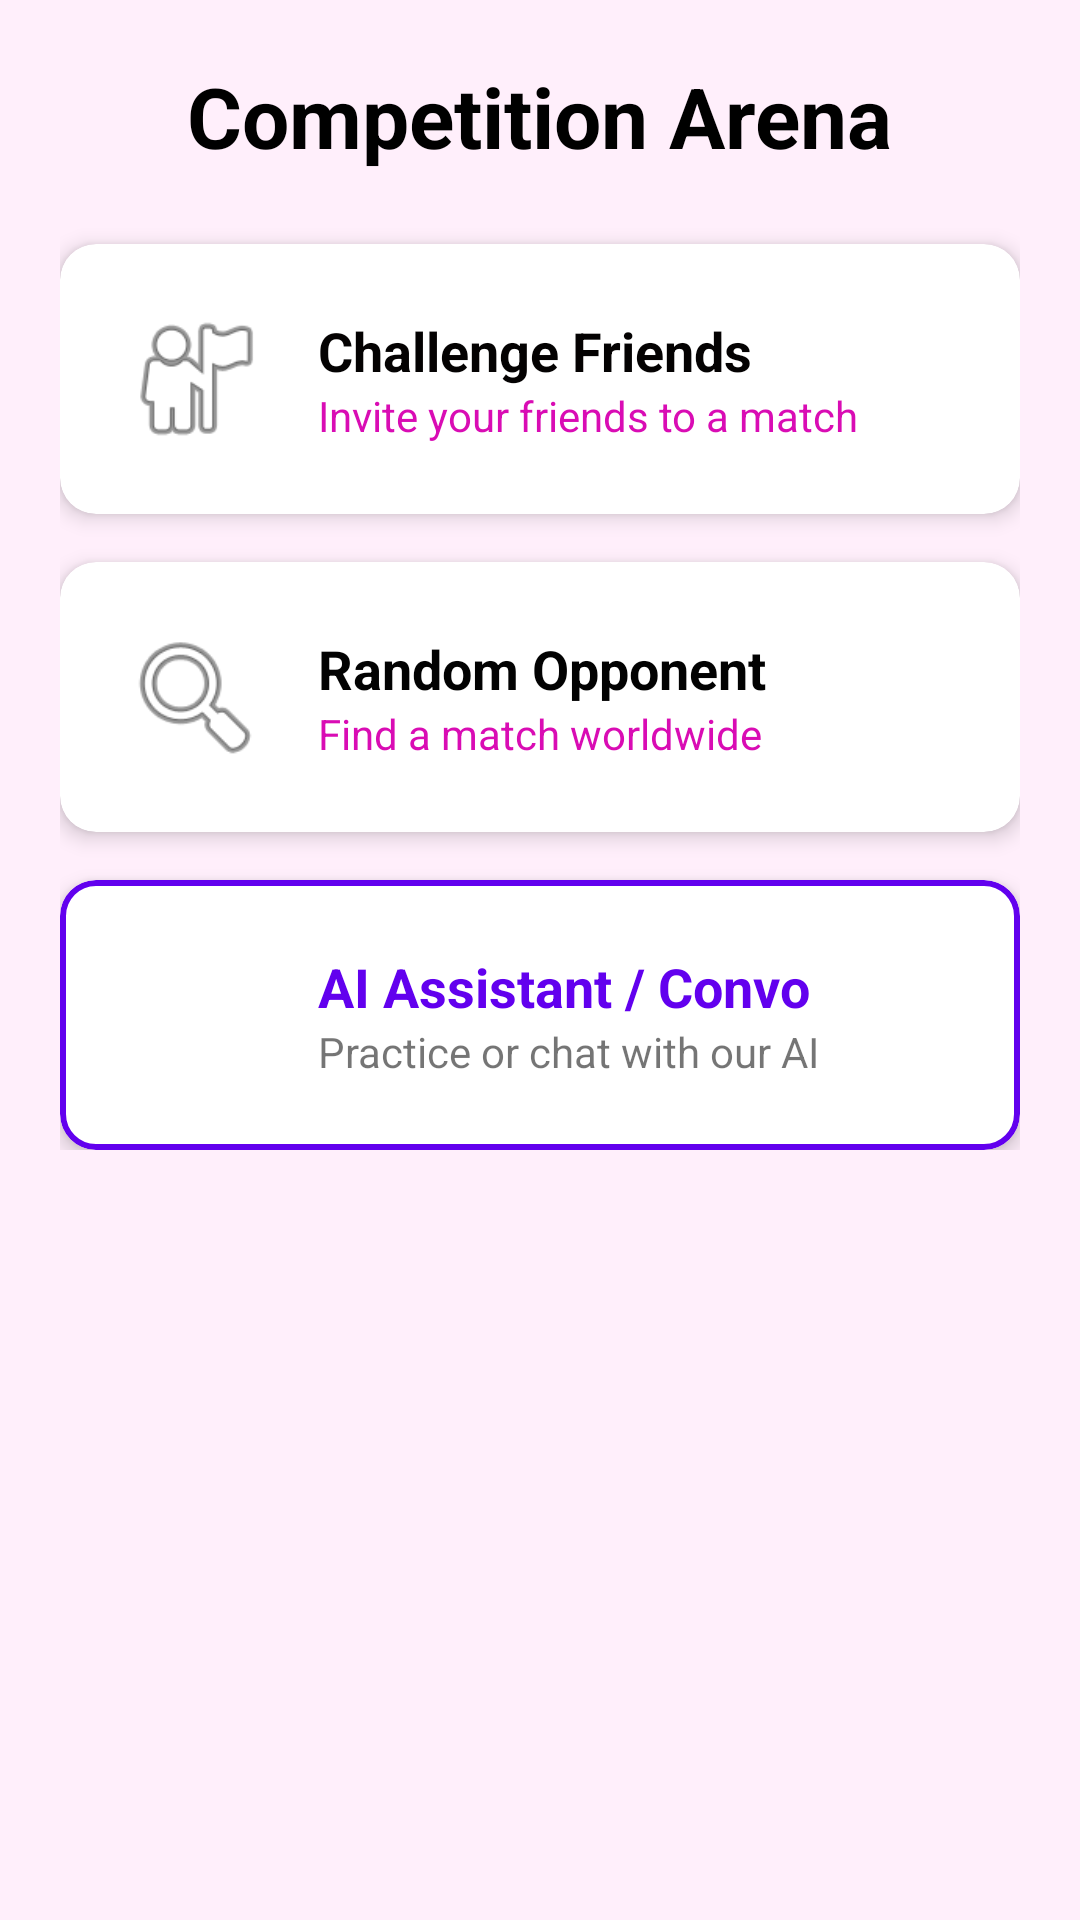

Where to tap for icons on this 1080 × 1920 app screen, as (x=x, y=y):
search: (x=195, y=698)
